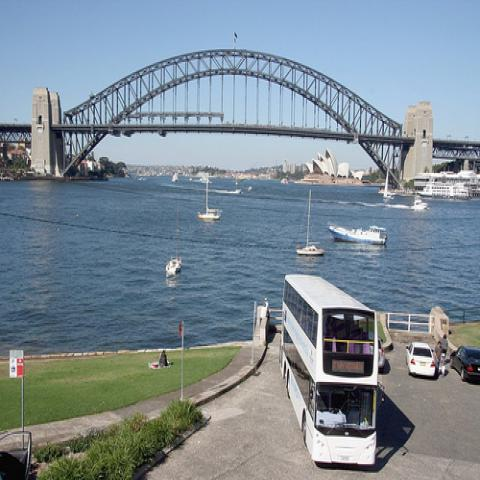bus: (280, 274, 377, 467)
car: (449, 345, 480, 381), (406, 341, 435, 376), (370, 332, 384, 368)
